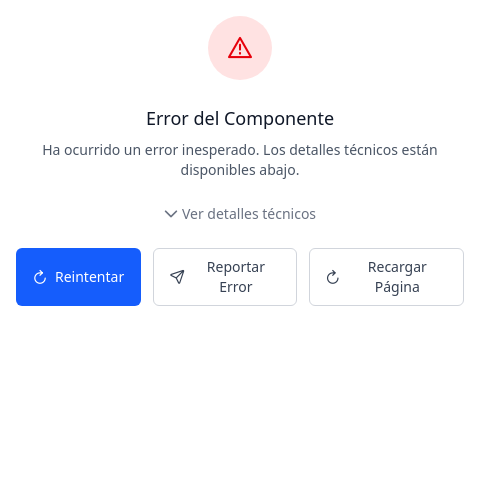
Test case: ErrorBoundary › Error Handling › shows technical details when expanded
Click the button "Ver detalles técnicos" at (240, 214), box 164,204 -> 316,224
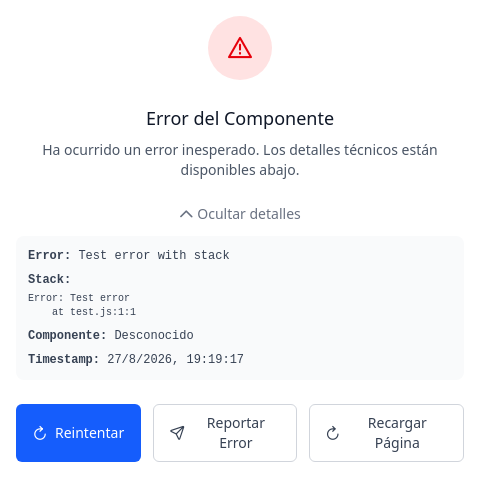
Expected: the text "Test error" is shown, 71,249 -> 230,263
